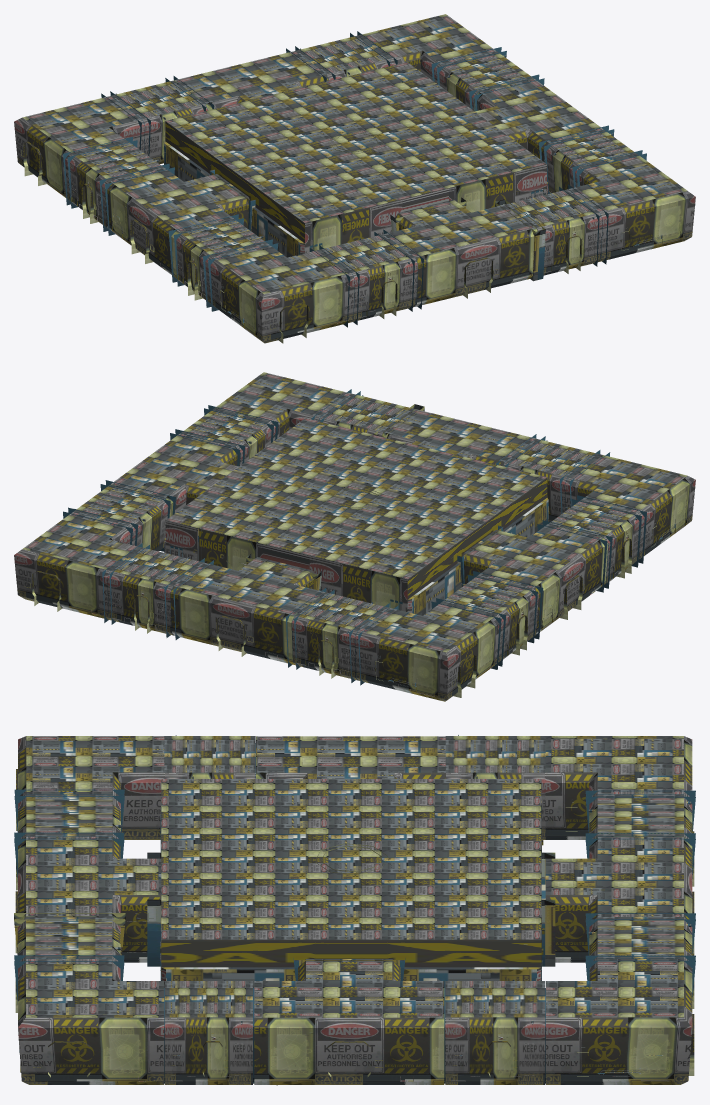
The model's file is Combined_Mesh_root_scene__16_1995fef1__ZombiesII_laboratory_06_d_24666406_c1f257.obj.
3 renders of one model, top to bottom at view 1: azimuth 30°, elevation 25°; view 2: azimuth 150°, elevation 25°; view 3: azimuth 270°, elevation 25°, orthographic. The views are drawn at different scales.
Bounding box in the file's own units: 72.61 × 10.34 × 71.75.
Materials: 726 (726 with a texture image).
